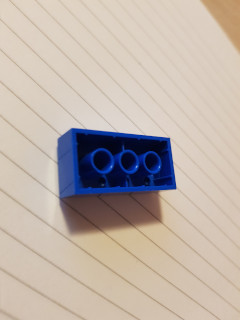2x4 blue: (53, 119, 182, 209)
